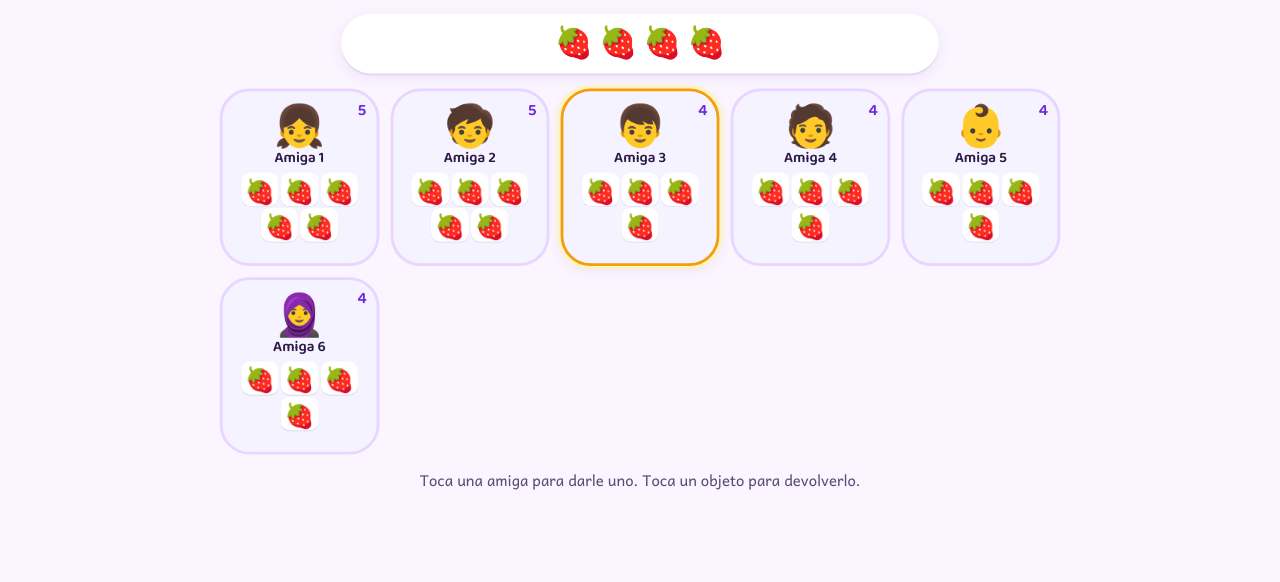
it: share activity › hands out every object to the friends, one at a time, and then asks how many each friend got
This screenshot has width=1280, height=582.
Earlier steps of the test are not shown.
Click the button "👦 Amiga 3 🍓 🍓 🍓 🍓 4" at (640, 177), box [560, 88, 720, 266]
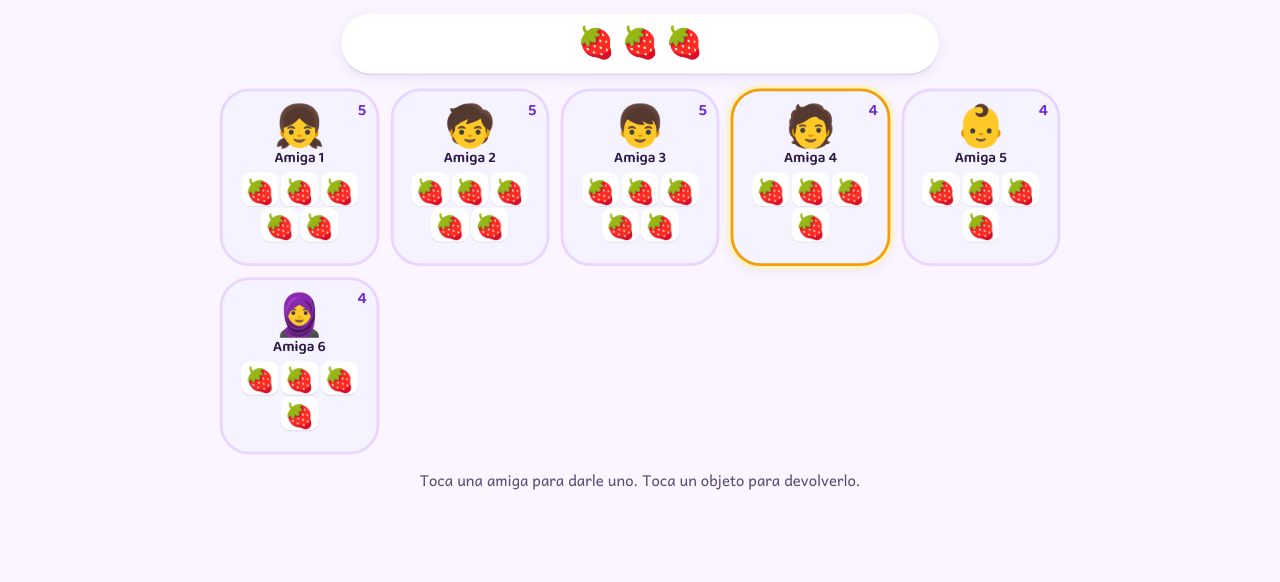
Click the button "🧑 Amiga 4 🍓 🍓 🍓 🍓 4" at (810, 177), box [731, 88, 890, 266]
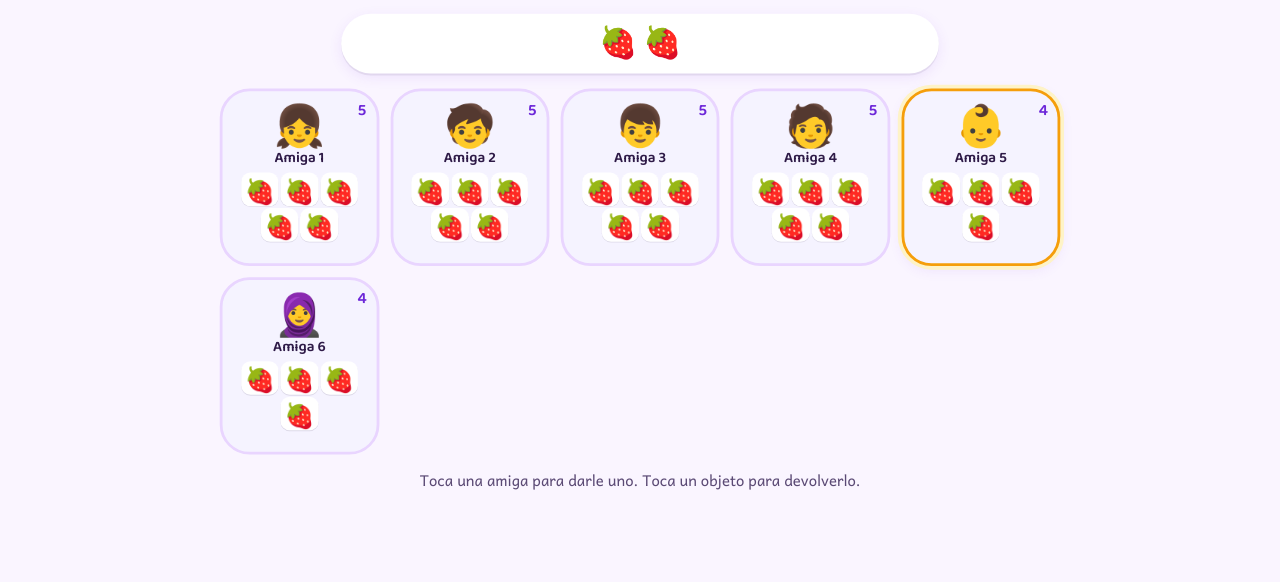
Click the button "👶 Amiga 5 🍓 🍓 🍓 🍓 4" at (981, 177), box [901, 88, 1060, 266]
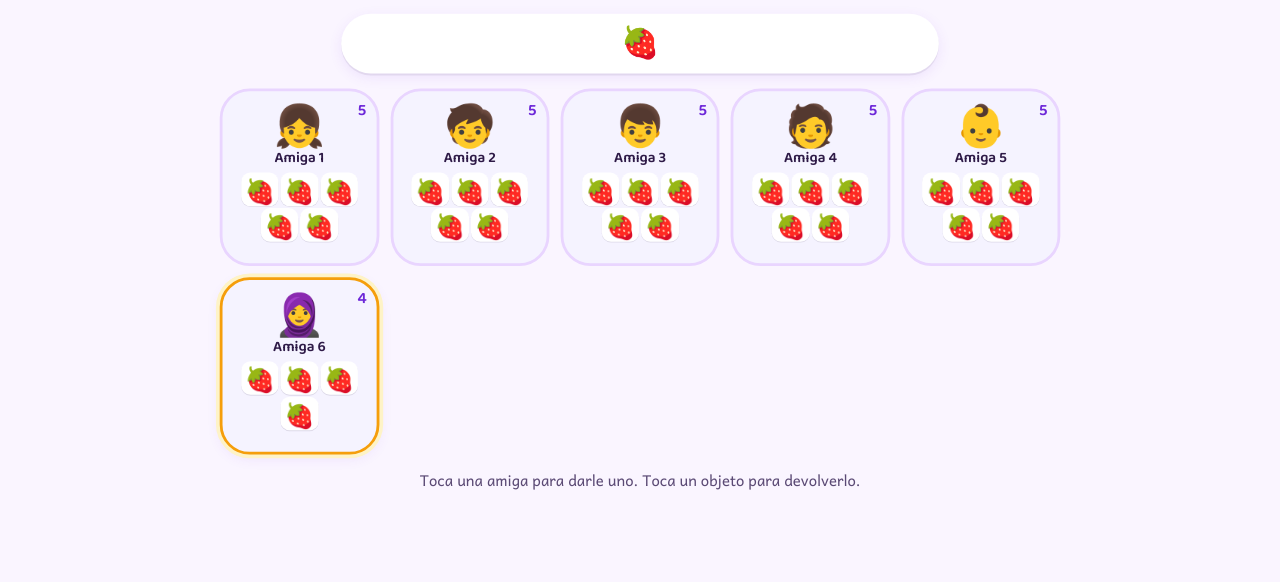
Click the button "🧕 Amiga 6 🍓 🍓 🍓 🍓 4" at (299, 366), box [220, 277, 379, 455]
(page scrolled)
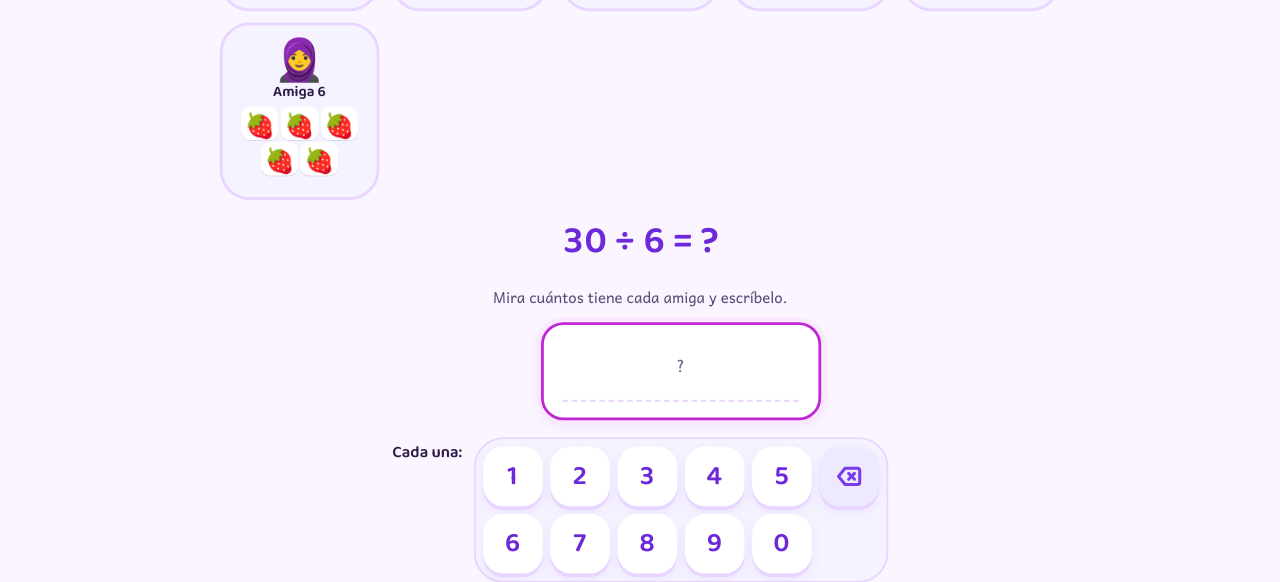
Expected: the text "30 ÷ 6 = ?" is shown, [561, 215, 719, 270]
